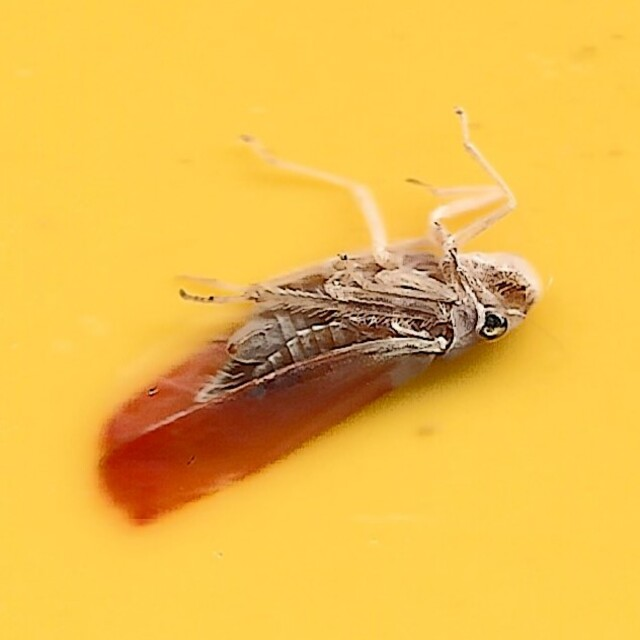Hemiptera: (101, 111, 539, 529)
